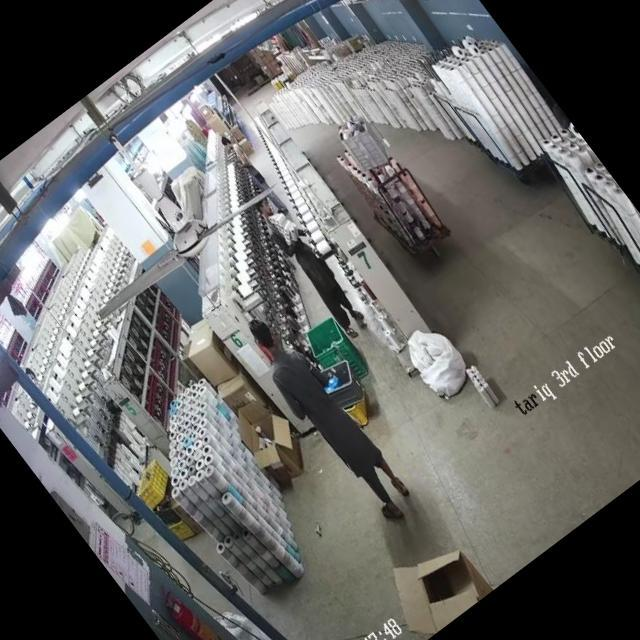person: (243, 312, 412, 521), (256, 197, 364, 331), (220, 127, 294, 216)
